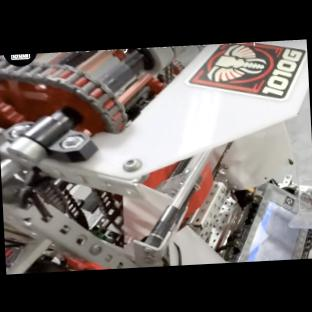Robot: (0, 38, 312, 273)
